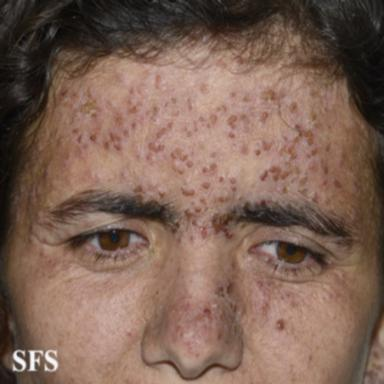Darier_s-Disease: (37, 54, 363, 246), (170, 263, 299, 360)
